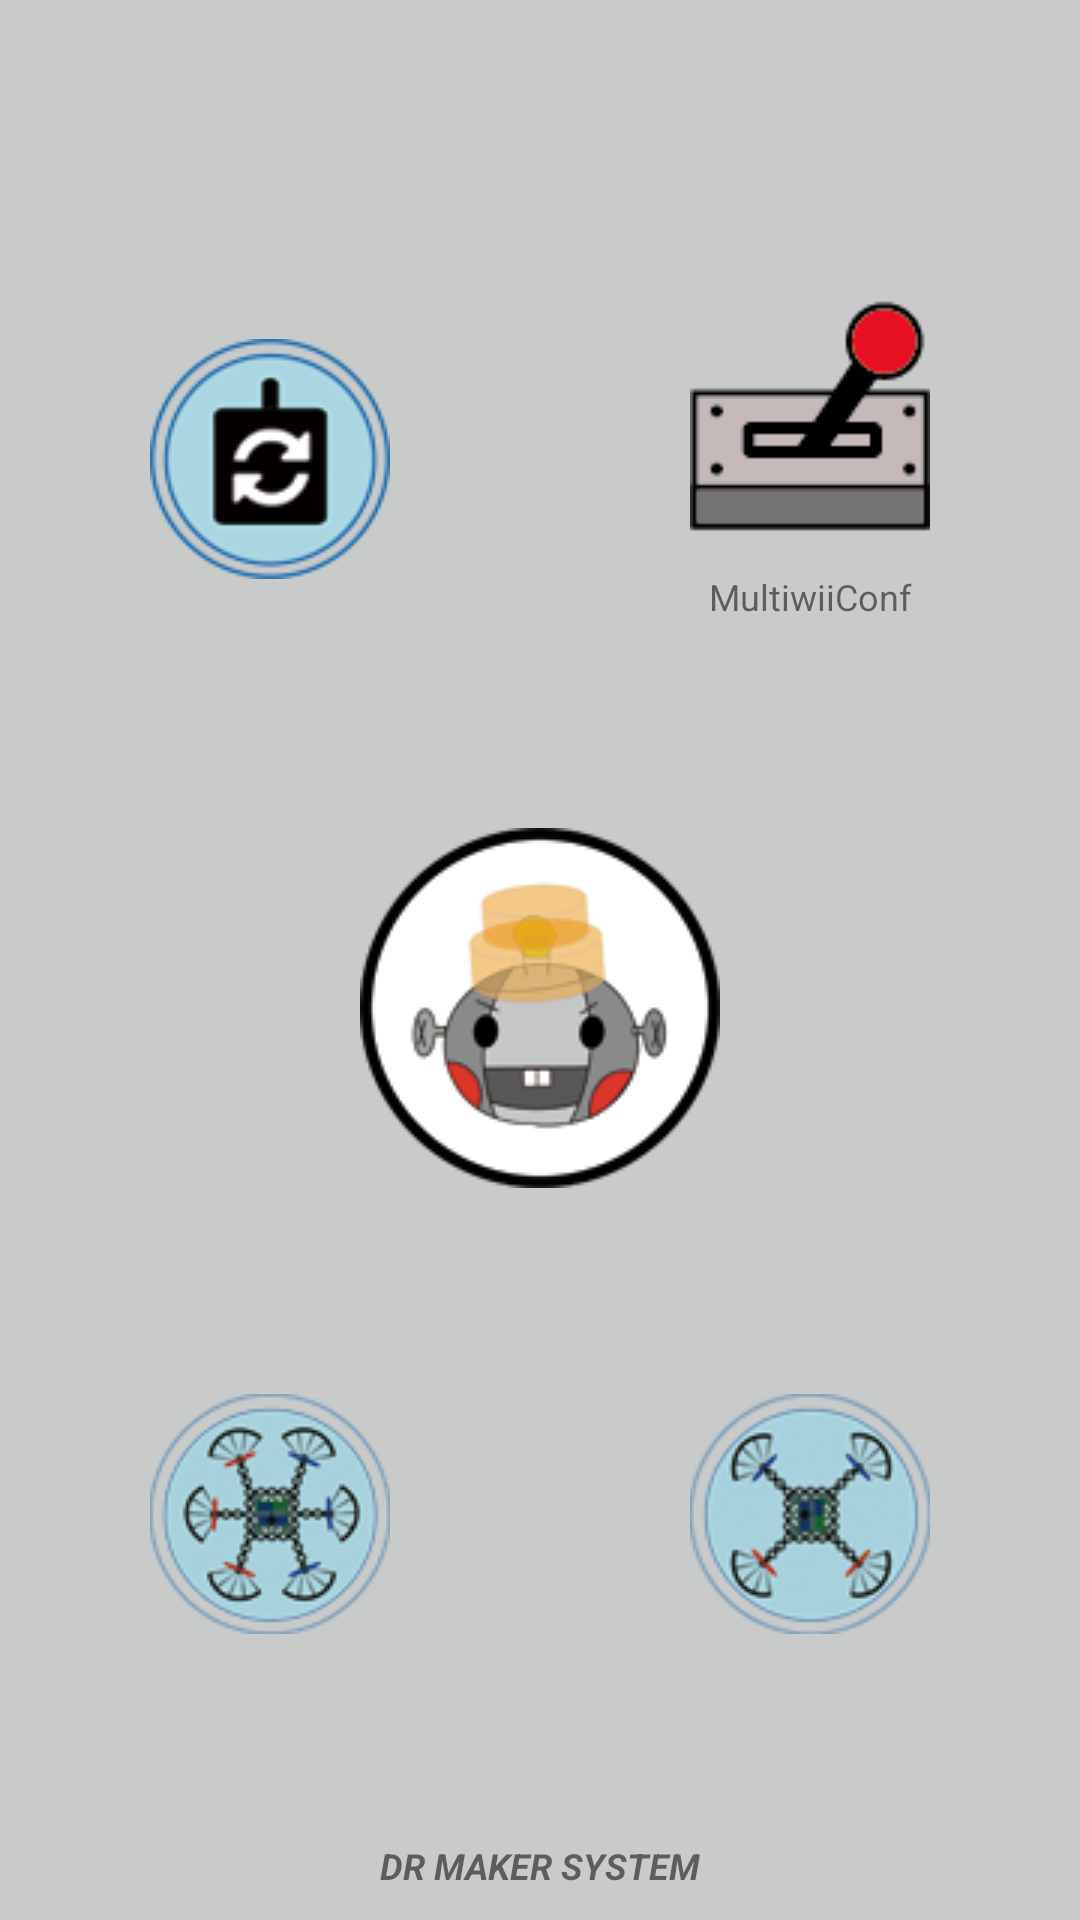

Screen size 1080 x 1920. Icon name, then its box in pixels as (x1, y1, x2, y2):
cont upload: (150, 339, 390, 579)
hex select: (150, 1394, 390, 1634)
quad select: (690, 1394, 930, 1634)
switch on: (690, 301, 930, 531)
